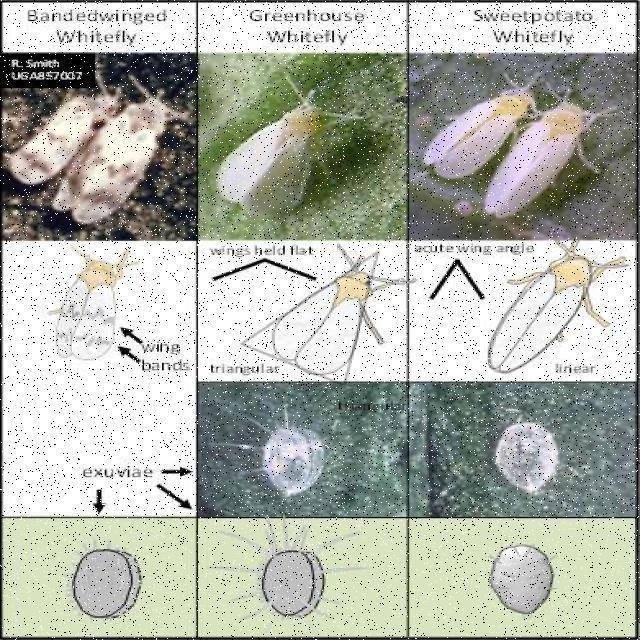Whiteflies: (208, 78, 383, 227), (15, 102, 172, 227), (479, 84, 612, 227), (427, 69, 524, 190)
